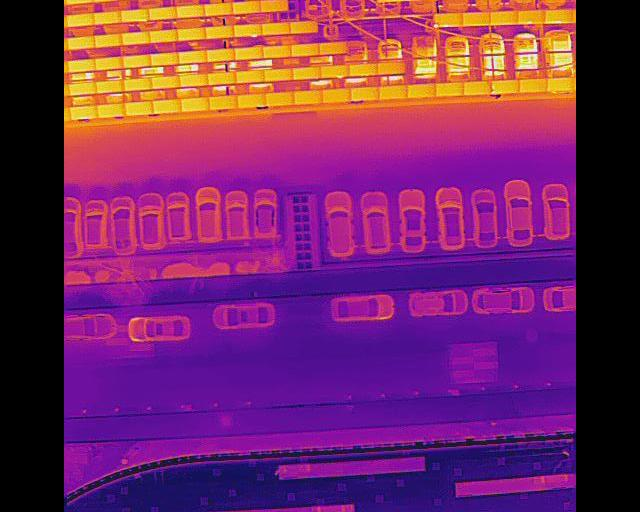Cell: (434, 13, 462, 27), (518, 10, 545, 23)
Cell-Multi: (490, 80, 519, 93)
No-Anomaly: (322, 88, 351, 102), (94, 33, 123, 47), (435, 82, 463, 96), (295, 90, 323, 104), (67, 12, 95, 26), (206, 24, 234, 38), (67, 35, 95, 49), (291, 42, 319, 56), (94, 56, 124, 69), (123, 31, 150, 45), (379, 85, 408, 98), (123, 77, 152, 90), (152, 99, 181, 112), (204, 3, 233, 16), (208, 96, 237, 109), (262, 44, 291, 57), (264, 68, 293, 81), (265, 92, 294, 105), (149, 6, 177, 19), (94, 11, 122, 24), (463, 12, 491, 25), (407, 84, 435, 97), (490, 11, 518, 24), (519, 79, 547, 92), (121, 8, 149, 21), (123, 54, 151, 67), (319, 42, 347, 55), (177, 27, 205, 40), (176, 4, 204, 17), (70, 106, 98, 119), (233, 0, 261, 13), (262, 21, 290, 34), (151, 52, 179, 65), (96, 79, 123, 92), (546, 77, 573, 90), (236, 46, 263, 59), (290, 20, 317, 33), (151, 29, 178, 42), (208, 72, 237, 84), (237, 94, 266, 106), (69, 58, 95, 71), (70, 82, 96, 95), (351, 88, 379, 100), (463, 82, 491, 94), (125, 102, 153, 114), (181, 98, 209, 110), (179, 50, 207, 62), (207, 49, 235, 61), (234, 24, 262, 36), (378, 62, 405, 74), (98, 104, 125, 116), (152, 76, 179, 88), (237, 70, 264, 82), (349, 64, 378, 75), (179, 75, 208, 86), (292, 67, 321, 78), (322, 65, 348, 77), (261, 0, 289, 11), (67, 0, 93, 4)
Unclassified: (545, 9, 573, 23)
